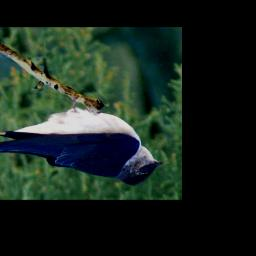Swallow: (0, 92, 167, 186)
